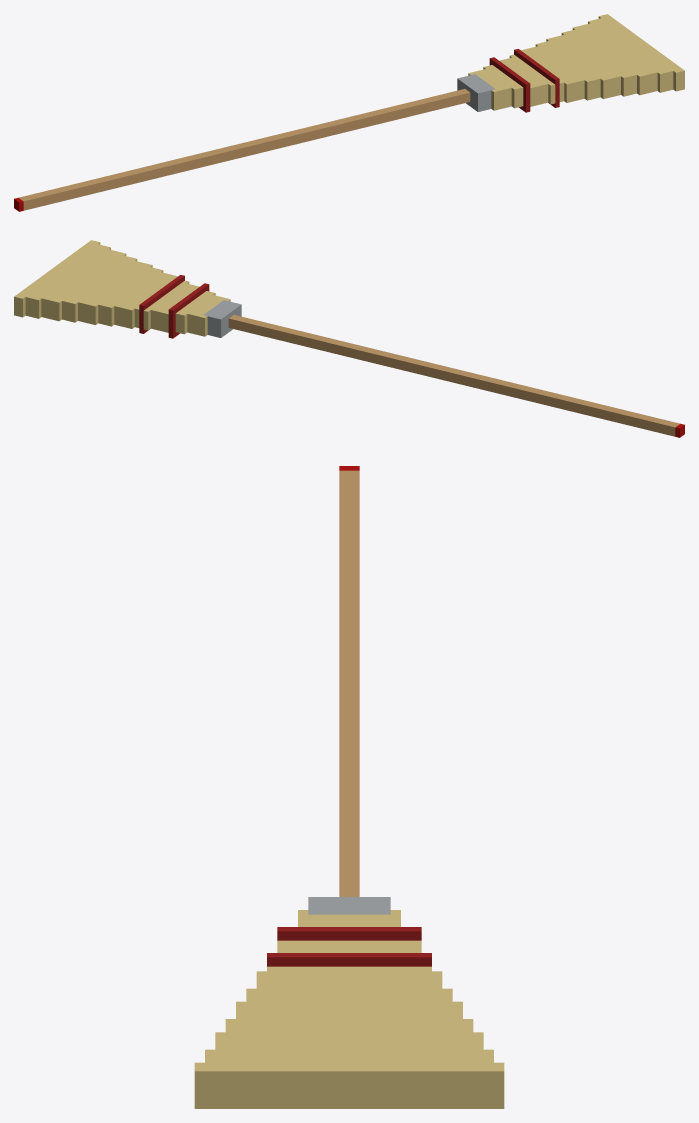
The model's file is broom.glb.
3 renders of one model, top to bottom at view 1: azimuth 30°, elevation 25°; view 2: azimuth 150°, elevation 25°; view 3: azimuth 270°, elevation 25°, orthographic. The views are drawn at different scales.
Visible parts, largest first — view 1: broom:compound; view 2: broom:compound; view 3: broom:compound.
Boxes of the visible parts, left/top/right/bottom form: broom:compound: left=14, top=14, right=684, bottom=211; broom:compound: left=14, top=240, right=684, bottom=437; broom:compound: left=194, top=466, right=504, bottom=1108.
Size of the model in its own units: 1.41 by 0.06 by 0.3.
